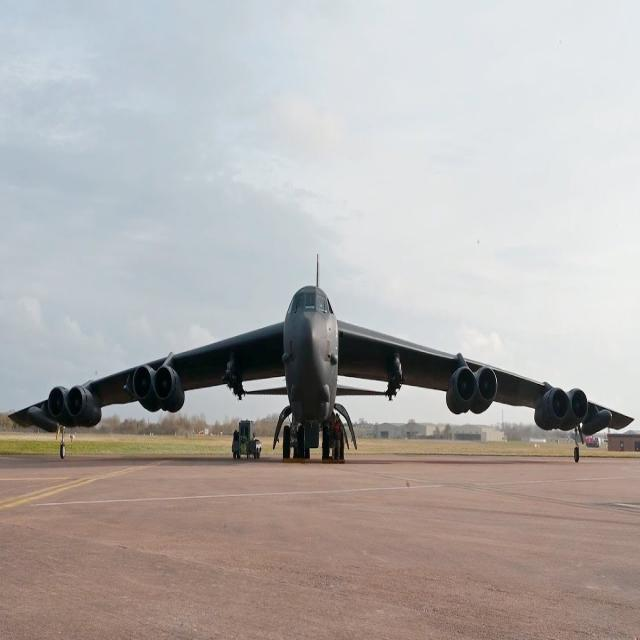B52: (11, 217, 640, 532)
